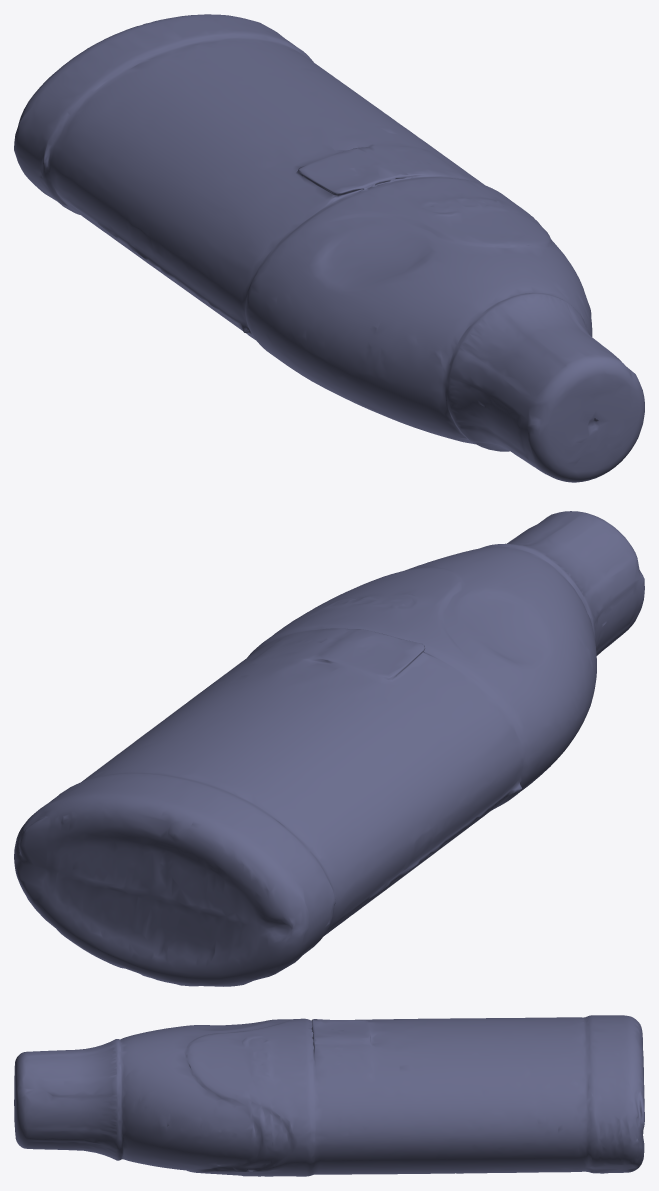
3 renders of one model, top to bottom at view 1: azimuth 30°, elevation 25°; view 2: azimuth 150°, elevation 25°; view 3: azimuth 270°, elevation 25°, orthographic. The views are drawn at different scales.
Bounding box in the file's own units: 0.0953 × 0.0566 × 0.2515.
